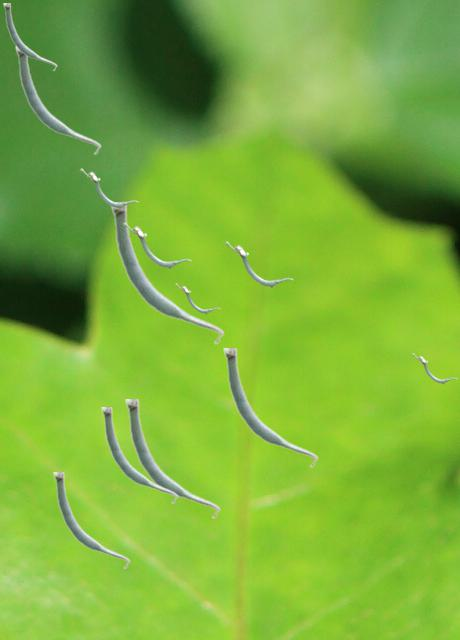french_bean: (110, 205, 223, 344), (125, 399, 219, 518), (223, 348, 317, 467), (15, 46, 100, 154), (53, 472, 129, 568), (101, 407, 177, 503), (3, 3, 56, 70), (225, 241, 292, 287), (123, 222, 190, 268), (80, 168, 137, 208), (175, 283, 219, 313), (412, 353, 456, 383)
